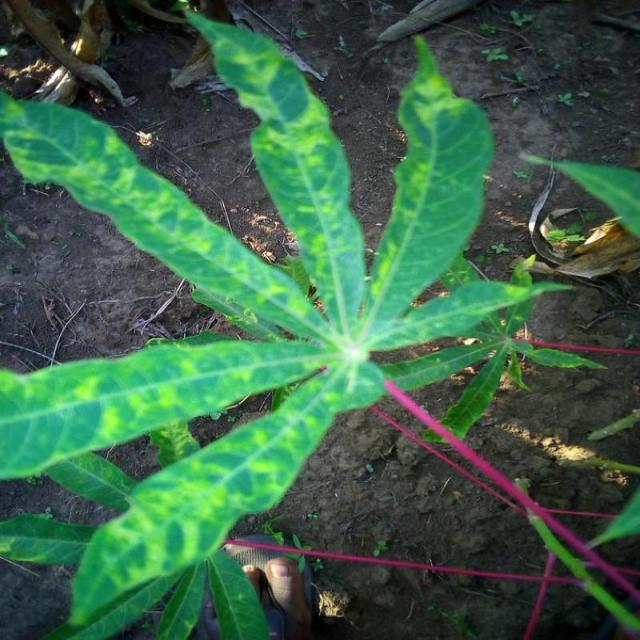cassava leaf: (1, 7, 607, 637)
